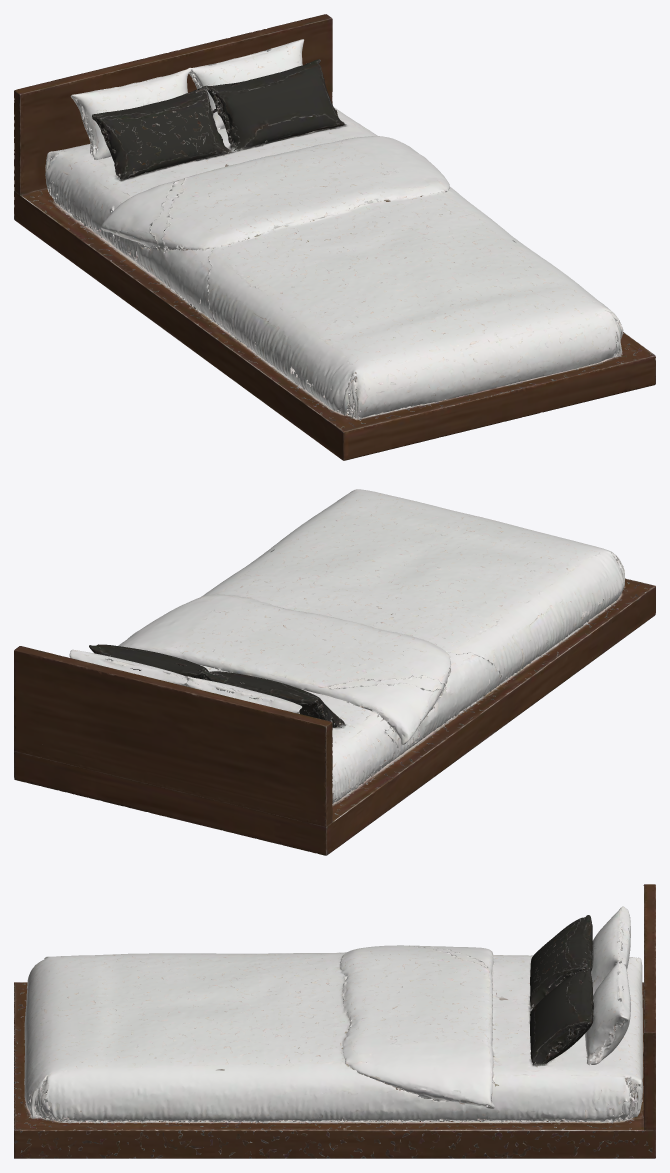
Rendered from platform_bed_and_mattress.raw.glb.
The picture shows the model from 3 angles, top to bottom: view 1: azimuth 30°, elevation 25°; view 2: azimuth 150°, elevation 25°; view 3: azimuth 270°, elevation 25°; orthographic projection. The views are drawn at different scales.
Visible parts, largest first — view 1: world; view 2: world; view 3: world.
Boxes of the visible parts, x1,y1,x2,y2 form: world: [14, 14, 655, 460]; world: [14, 489, 655, 855]; world: [14, 884, 655, 1158].
Size of the model in its own units: 0.548 by 0.2179 by 1.
1 material, 1 textured.
